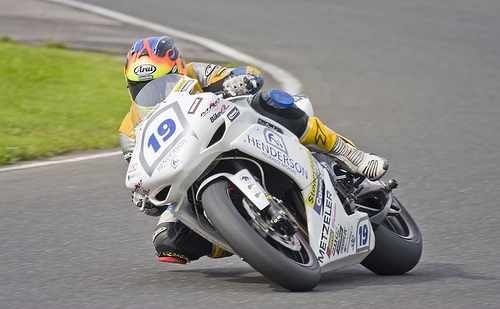helmet: (128, 42, 184, 94)
